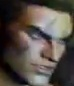kevin: (6, 5, 68, 82)
